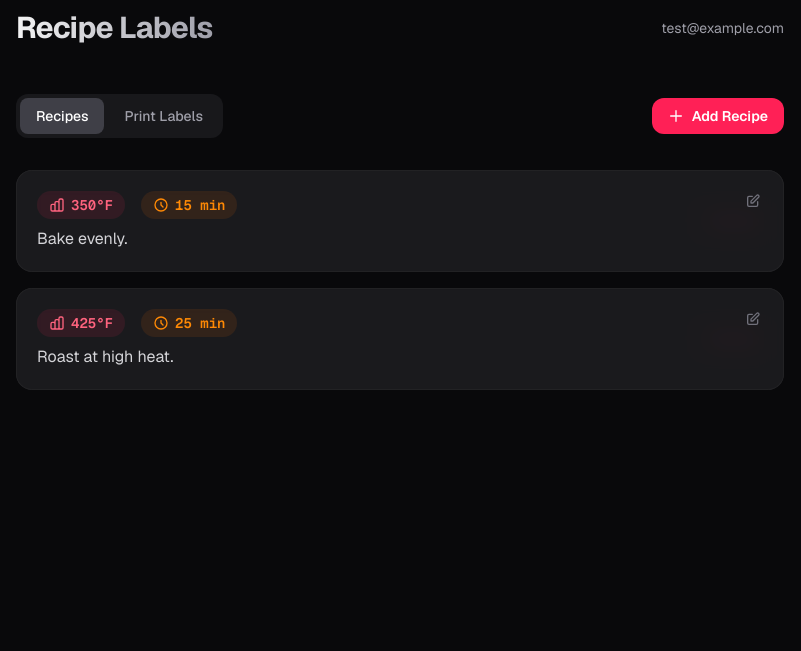
it: RecipeDashboard › shows the Add Recipe form when the add button is clicked
Click the button "Add Recipe" at [718, 116], box [652, 98, 784, 134]
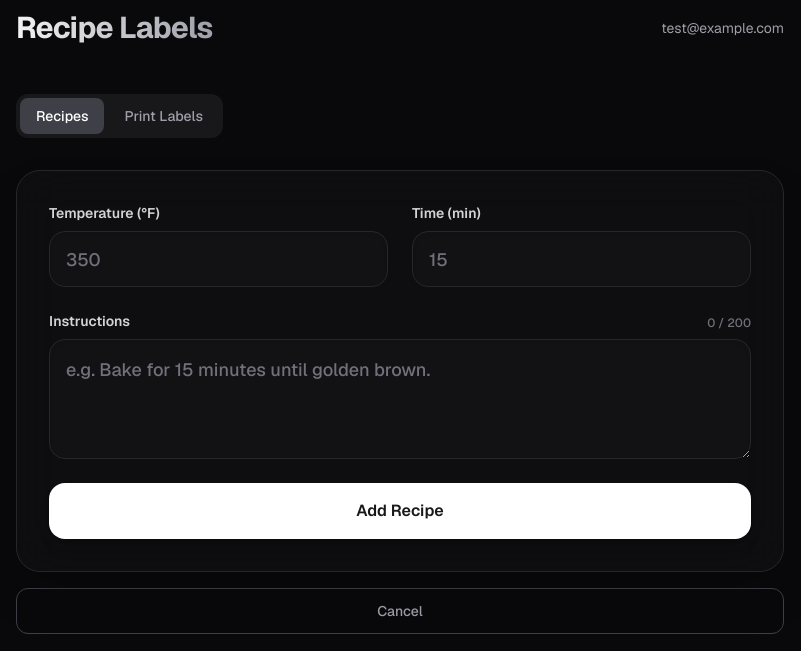
Check: the number field labelled "Temperature (°F)" is shown, box [49, 231, 388, 287]
